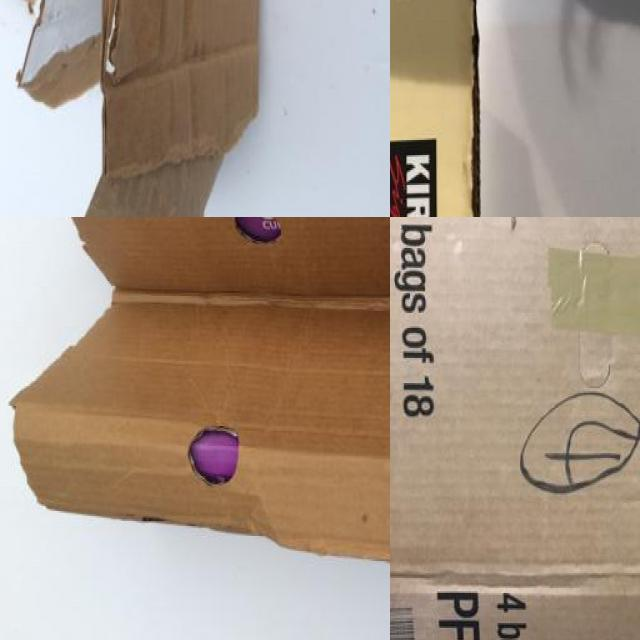class_name: (12, 217, 390, 636), (390, 217, 640, 640), (0, 0, 268, 217), (390, 0, 481, 217)
